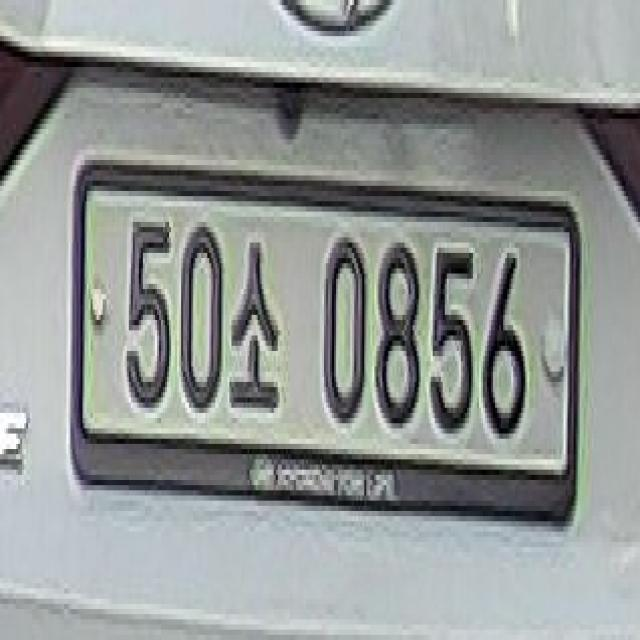0: (318, 233, 368, 433), (178, 220, 226, 426)
5: (124, 207, 172, 426), (426, 237, 476, 442)
6: (480, 236, 536, 450)
8: (372, 237, 424, 440)
license_plate: (62, 148, 599, 558)
so: (227, 231, 287, 427)
